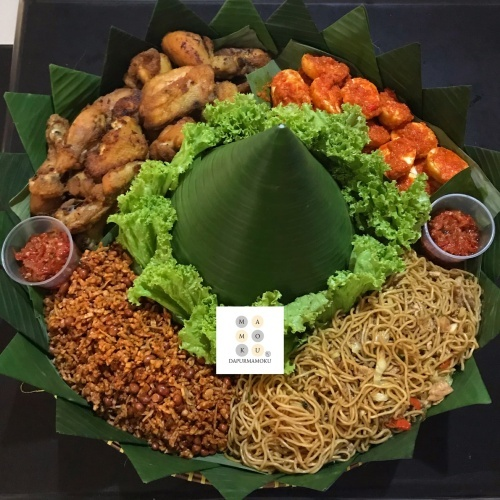nasi_tumpeng: (13, 29, 494, 473)
